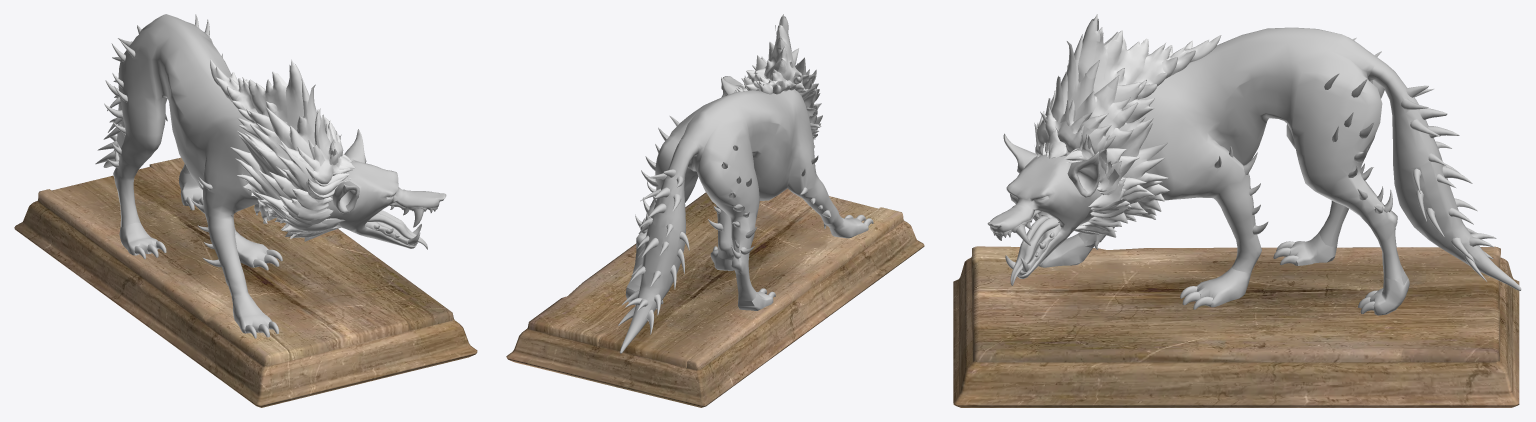
3 renders of one model, left to right at view 1: azimuth 30°, elevation 25°; view 2: azimuth 150°, elevation 25°; view 3: azimuth 270°, elevation 25°, orthographic. The views are drawn at different scales.
Parts seen in each view (by area): view 1: SM_Taxidermy_Trophy_Full_Body_Wolf_02_LOD0; view 2: SM_Taxidermy_Trophy_Full_Body_Wolf_02_LOD0; view 3: SM_Taxidermy_Trophy_Full_Body_Wolf_02_LOD0.
Boxes of the visible parts, <box> form: SM_Taxidermy_Trophy_Full_Body_Wolf_02_LOD0: <box>14,14,477,407</box>; SM_Taxidermy_Trophy_Full_Body_Wolf_02_LOD0: <box>506,14,924,407</box>; SM_Taxidermy_Trophy_Full_Body_Wolf_02_LOD0: <box>953,14,1521,407</box>.
Size of the model in its own units: 1.06 by 1.3 by 2.04.
